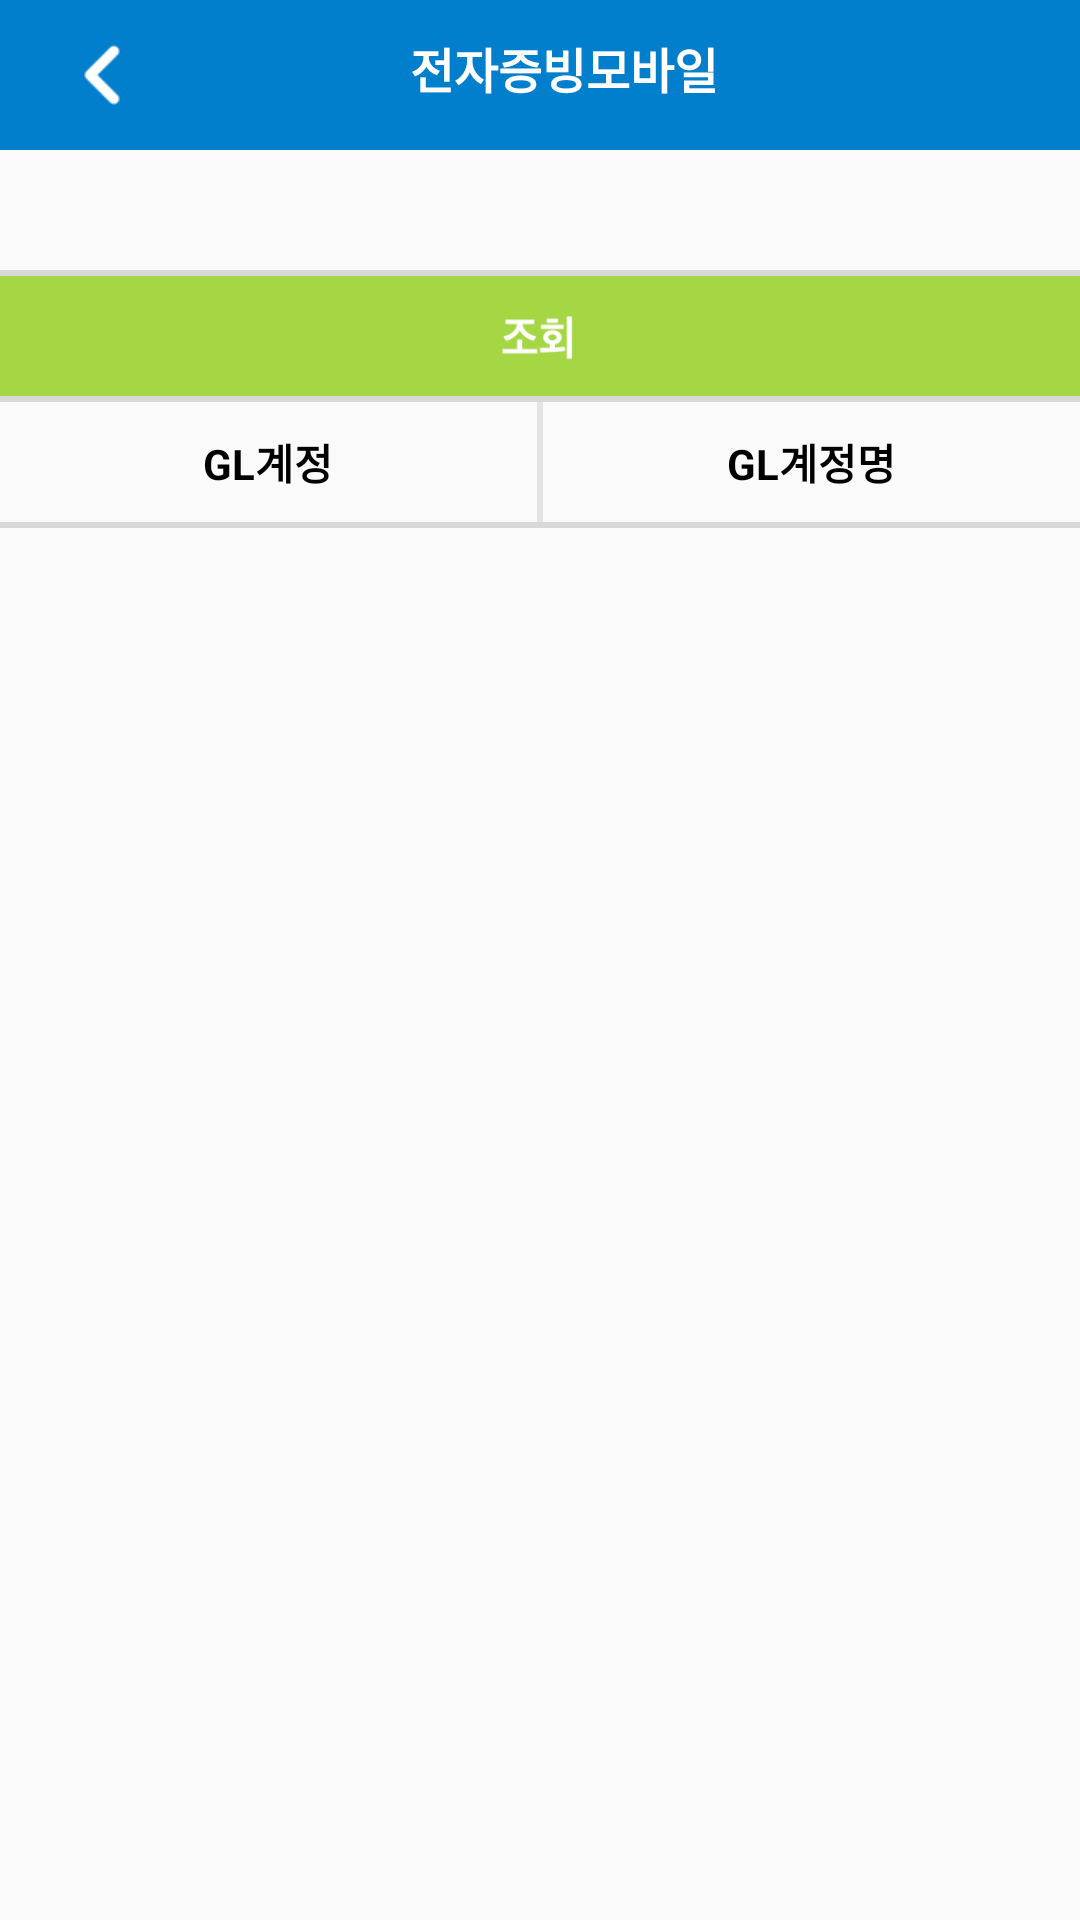

Icons on this 1080px×1920px Android screen, each with the point to tap as point (x, y):
back: point (102, 75)
